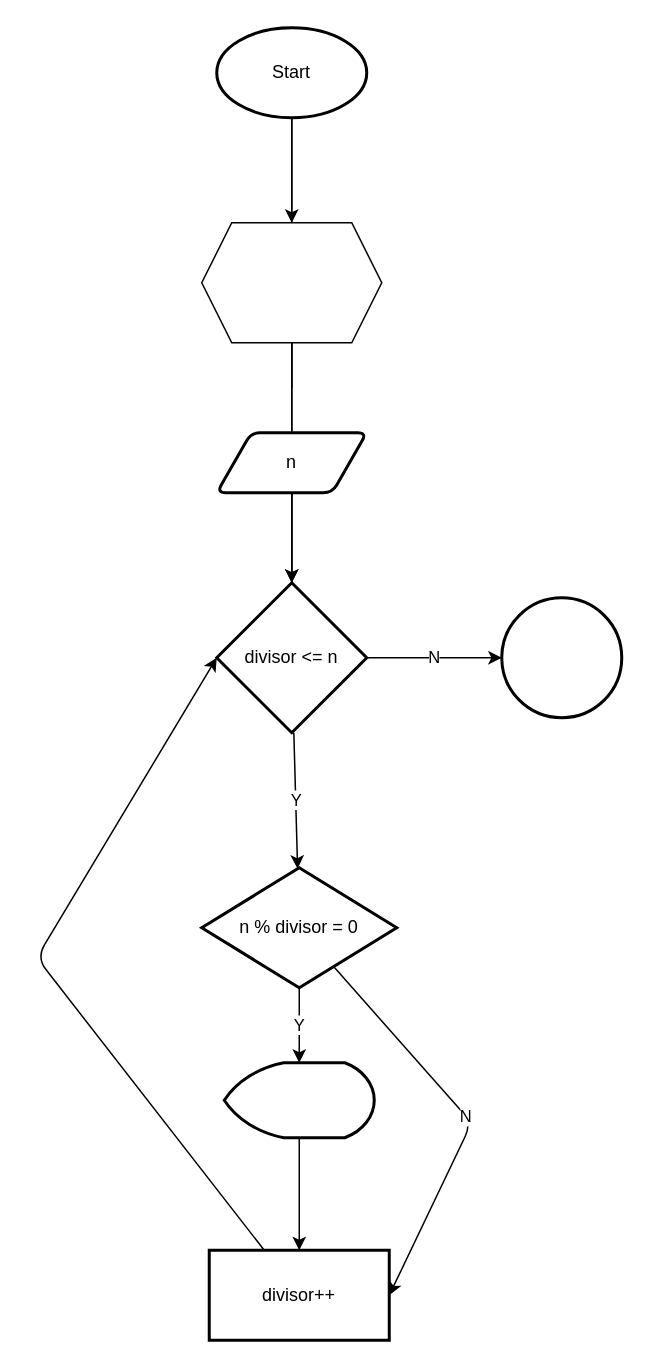
This 650x1367 diagram has some shape labels left out. Each missing label, with the centre of its shape:
"divisor" goes at point (298, 1099).
"n, divisor = 1" goes at point (291, 282).
"Stop" goes at point (561, 657).
